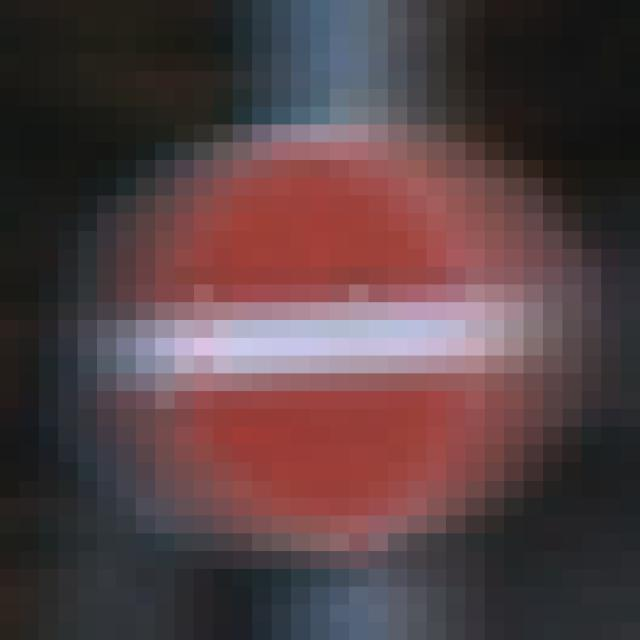No Entry: (117, 108, 544, 552)
